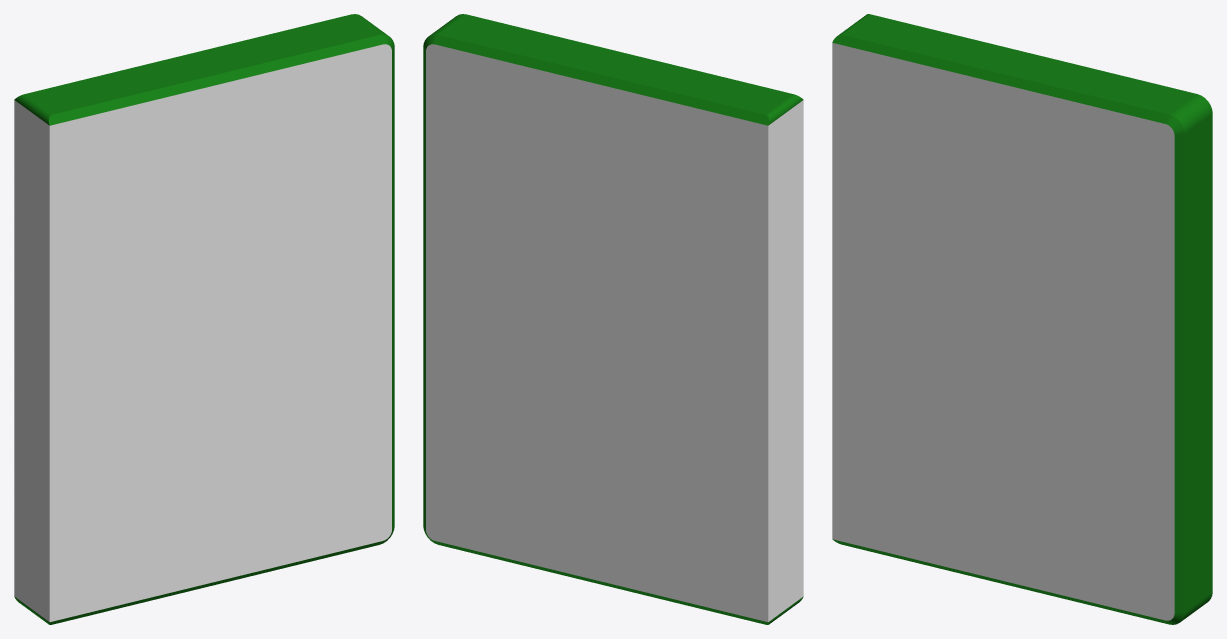
File: clamshell_green.glb
The picture shows the model from 3 angles, left to right: view 1: azimuth 30°, elevation 25°; view 2: azimuth 150°, elevation 25°; view 3: azimuth 330°, elevation 25°; orthographic projection.
Parts seen in each view (by area): view 1: box; view 2: box; view 3: box.
Part boxes in pixels (x1,y1,x2,y2): box: [14, 14, 394, 624]; box: [423, 14, 803, 624]; box: [832, 14, 1212, 624].
Size of the model in its own units: 0.7158 by 1 by 0.1263.
